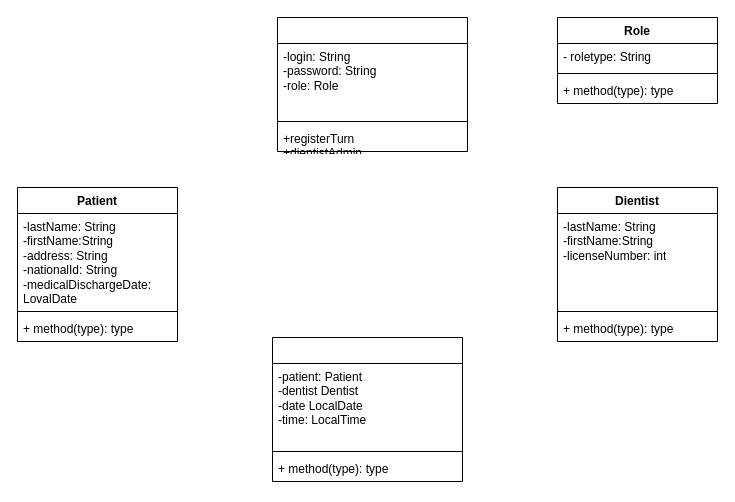
The diagram is 735 pixels wide and 502 high, and some of its shapes have lost their labels. The box of each missing label's shape, as (x1, y1, x2, y2) in pixels:
Appointment: (272, 336, 462, 482)
User: (276, 16, 468, 152)
